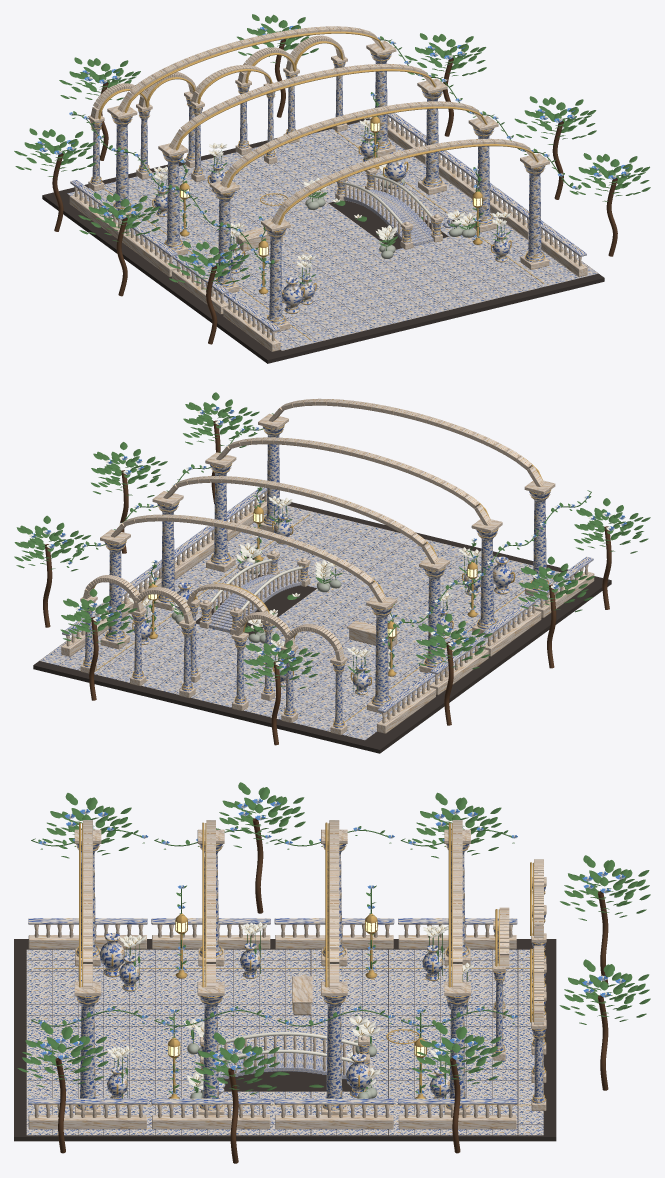
Rendered from room-1.glb.
3 renders of one model, top to bottom at view 1: azimuth 30°, elevation 25°; view 2: azimuth 150°, elevation 25°; view 3: azimuth 270°, elevation 25°, orthographic. The views are drawn at different scales.
Parts seen in each view (by area): view 1: Detailed Fine floor tile, Detailed Ivory marble, Detailed Cobalt floral porcelain, Detailed Garden leaves, Detailed Dark recess, Detailed Hand chased antique gilt, Detailed Polished dark walnut curve fillet, Detailed Warm porcelain ivory, Detailed Flower petals, Detailed Garden rock, Detailed Cobalt floral porcelain curve fillet; view 2: Detailed Fine floor tile, Detailed Ivory marble, Detailed Cobalt floral porcelain, Detailed Garden leaves, Detailed Dark recess, Detailed Hand chased antique gilt, Detailed Polished dark walnut curve fillet, Detailed Warm porcelain ivory, Detailed Flower petals, Detailed Garden rock; view 3: Detailed Fine floor tile, Detailed Ivory marble, Detailed Cobalt floral porcelain, Detailed Garden leaves, Detailed Dark recess, Detailed Hand chased antique gilt, Detailed Polished dark walnut curve fillet, Detailed Warm porcelain ivory, Detailed Flower petals, Detailed Cobalt floral porcelain curve fillet, Detailed Garden rock.
Boxes of the visible parts, x1,y1,x2,y2 form: Detailed Fine floor tile: (67,119,597,350); Detailed Ivory marble: (69,26,587,351); Detailed Cobalt floral porcelain: (70,52,586,331); Detailed Garden leaves: (14,14,650,301); Detailed Dark recess: (42,118,604,363); Detailed Hand chased antique gilt: (90,31,545,340); Detailed Polished dark walnut curve fillet: (52,39,617,344); Detailed Warm porcelain ivory: (39,25,629,286); Detailed Flower petals: (37,26,628,286); Detailed Garden rock: (305,179,475,258); Detailed Cobalt floral porcelain curve fillet: (342,174,432,229); Detailed Fine floor tile: (40,504,574,740); Detailed Ivory marble: (61,398,594,734); Detailed Cobalt floral porcelain: (62,425,593,728); Detailed Garden leaves: (14,392,650,693); Detailed Dark recess: (33,496,611,753); Detailed Hand chased antique gilt: (83,417,551,726); Detailed Polished dark walnut curve fillet: (43,420,611,745); Detailed Warm porcelain ivory: (29,407,626,669); Detailed Flower petals: (31,406,626,669); Detailed Garden rock: (171,561,341,643); Detailed Fine floor tile: (26,949,543,1135); Detailed Ivory marble: (28,820,546,1129); Detailed Cobalt floral porcelain: (28,844,545,1110); Detailed Garden leaves: (17,782,650,1098); Detailed Dark recess: (14,939,556,1141); Detailed Hand chased antique gilt: (33,822,545,1109); Detailed Polished dark walnut curve fillet: (55,818,608,1163); Detailed Warm porcelain ivory: (41,798,624,1094); Detailed Flower petals: (39,798,625,1094); Detailed Cobalt floral porcelain curve fillet: (218,1032,363,1062); Detailed Garden rock: (187,1040,377,1098).
Bounding box in the file's own units: 27.93 × 7.99 × 25.84.
12 materials, 3 textured.
